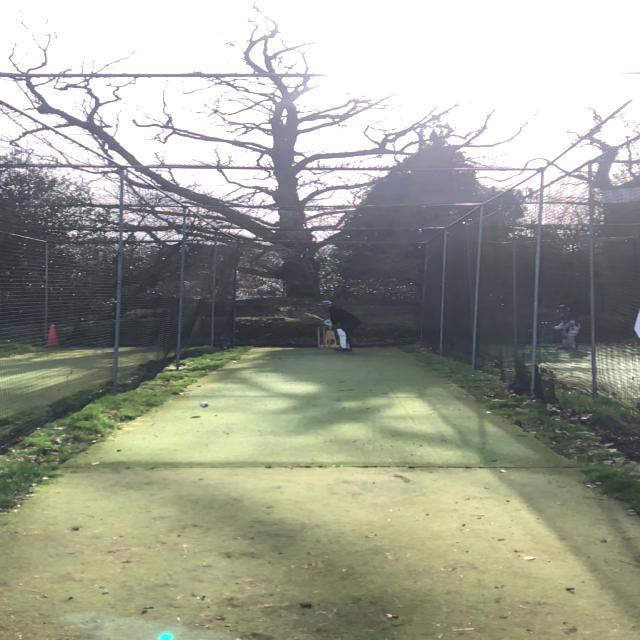ball: (199, 400, 209, 410)
